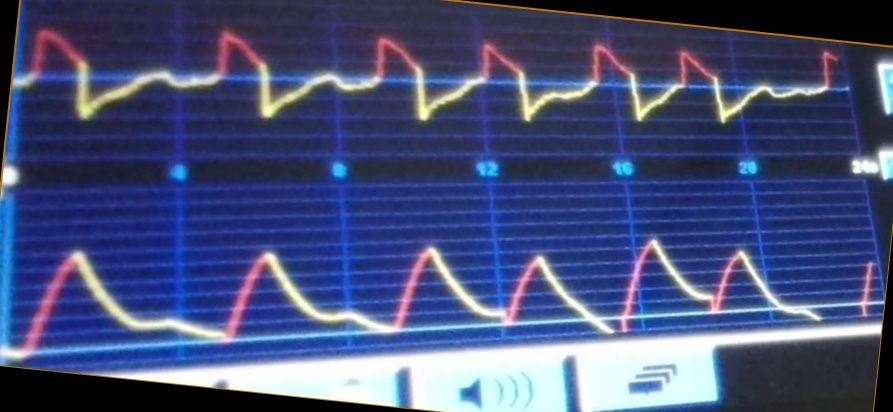Ineffective_effort Flow: (20, 26, 838, 128)
Ineffective_effort Volume: (15, 229, 875, 353)
